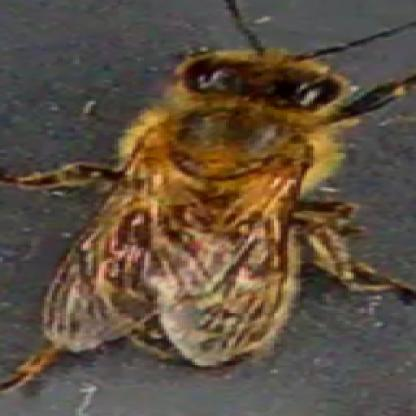bee: (78, 45, 315, 364)
